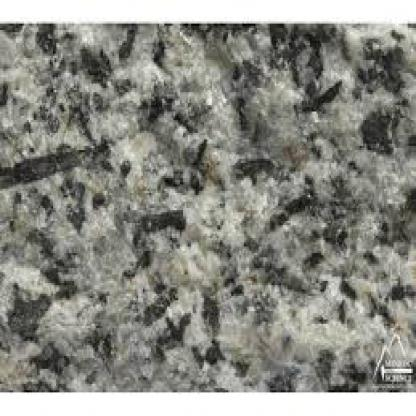Igneous_Diorite: (1, 26, 414, 382)
